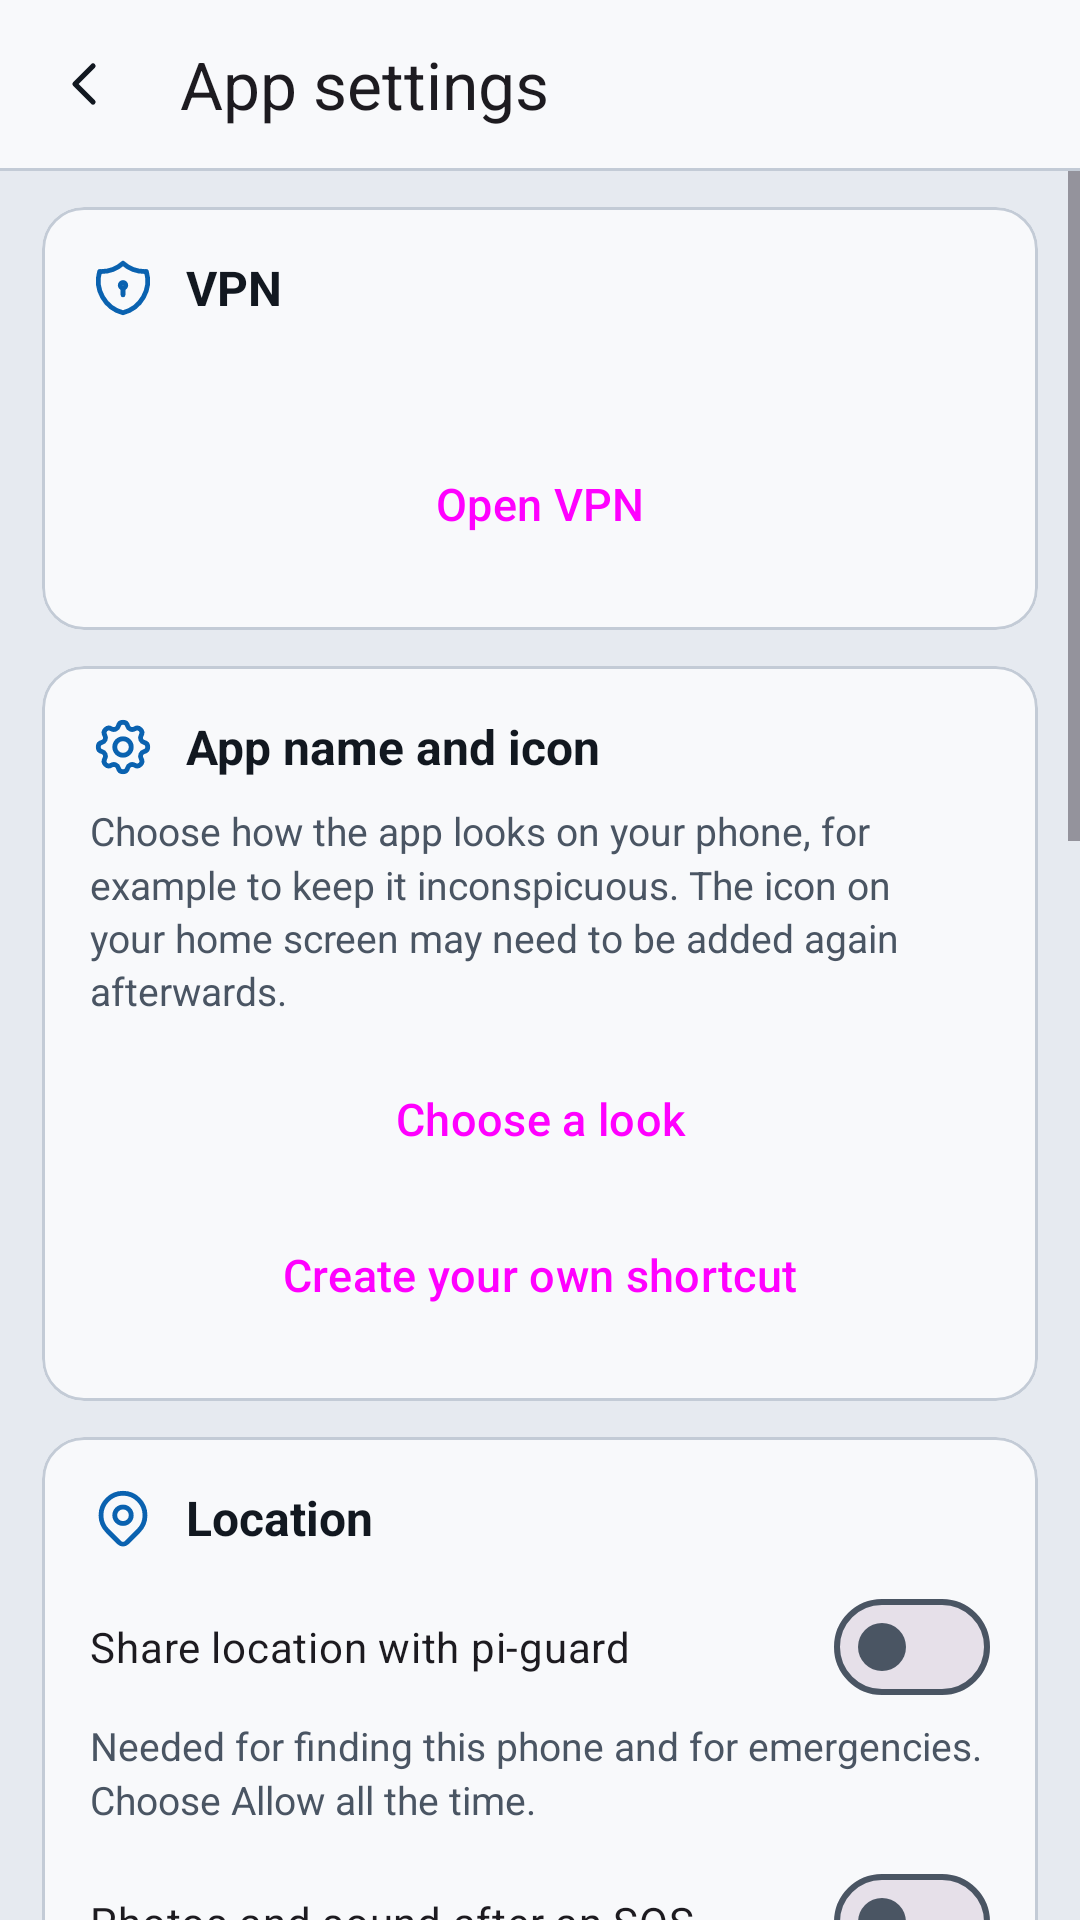

Point at icon controls on the screen. Image size 1080 x 1920, points as [x,y].
map pin: [123,1519]
settings: [123,747]
shield lock: [123,287]
